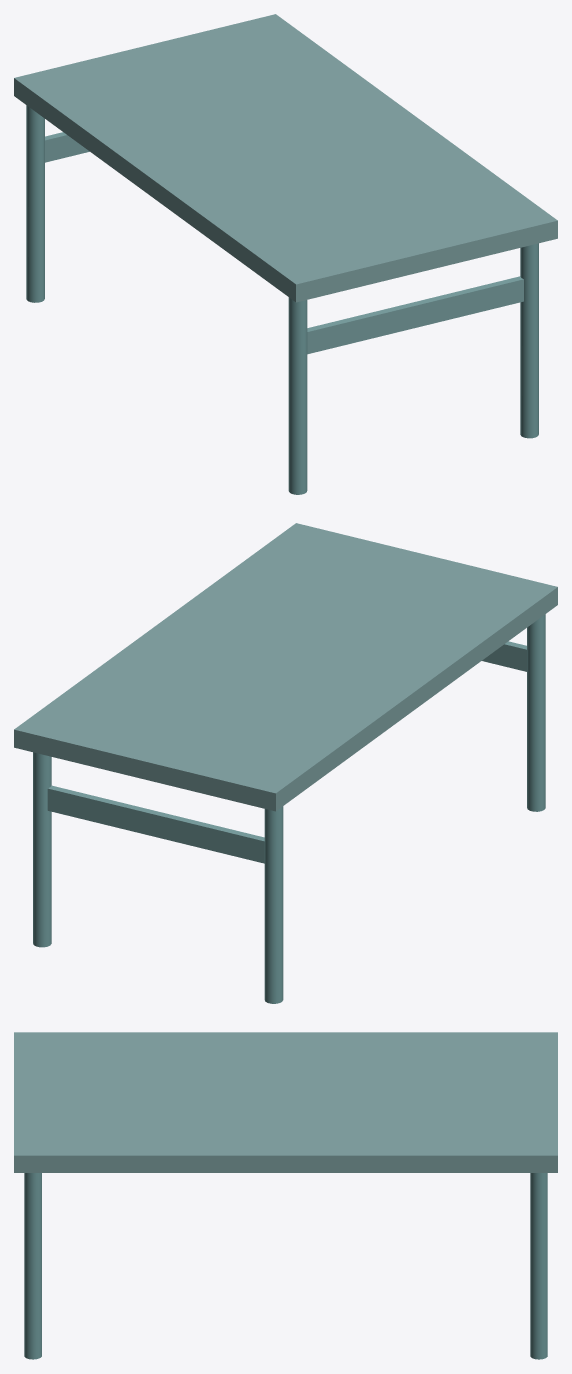
File: Table.fbx
The picture shows the model from 3 angles, top to bottom: view 1: azimuth 30°, elevation 25°; view 2: azimuth 150°, elevation 25°; view 3: azimuth 270°, elevation 25°; orthographic projection. The views are drawn at different scales.
Visible parts, largest first — view 1: pCube25; view 2: pCube25; view 3: pCube25.
Part boxes in pixels (x1,y1,x2,y2): pCube25: (14, 14, 557, 494); pCube25: (14, 523, 557, 1003); pCube25: (14, 1032, 557, 1359).
Bounding box in the file's own units: 19.5 × 15.42 × 36.4.
